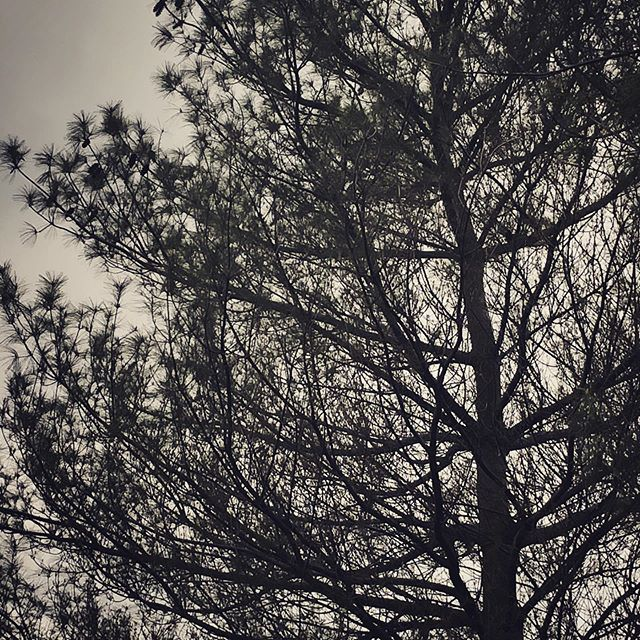tree: (57, 14, 640, 615)
